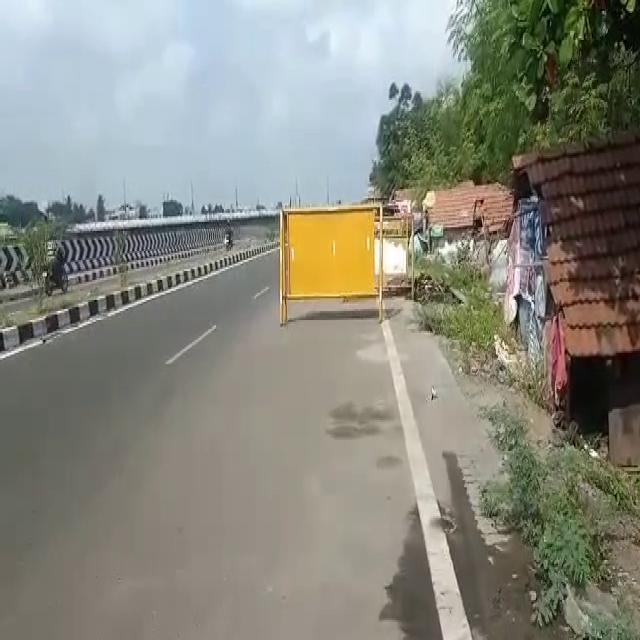fallen_object: (277, 202, 385, 325)
